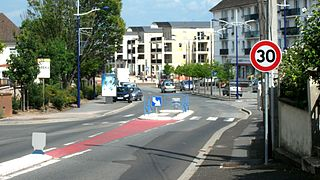Speed_limit_30km: (249, 40, 282, 71)
